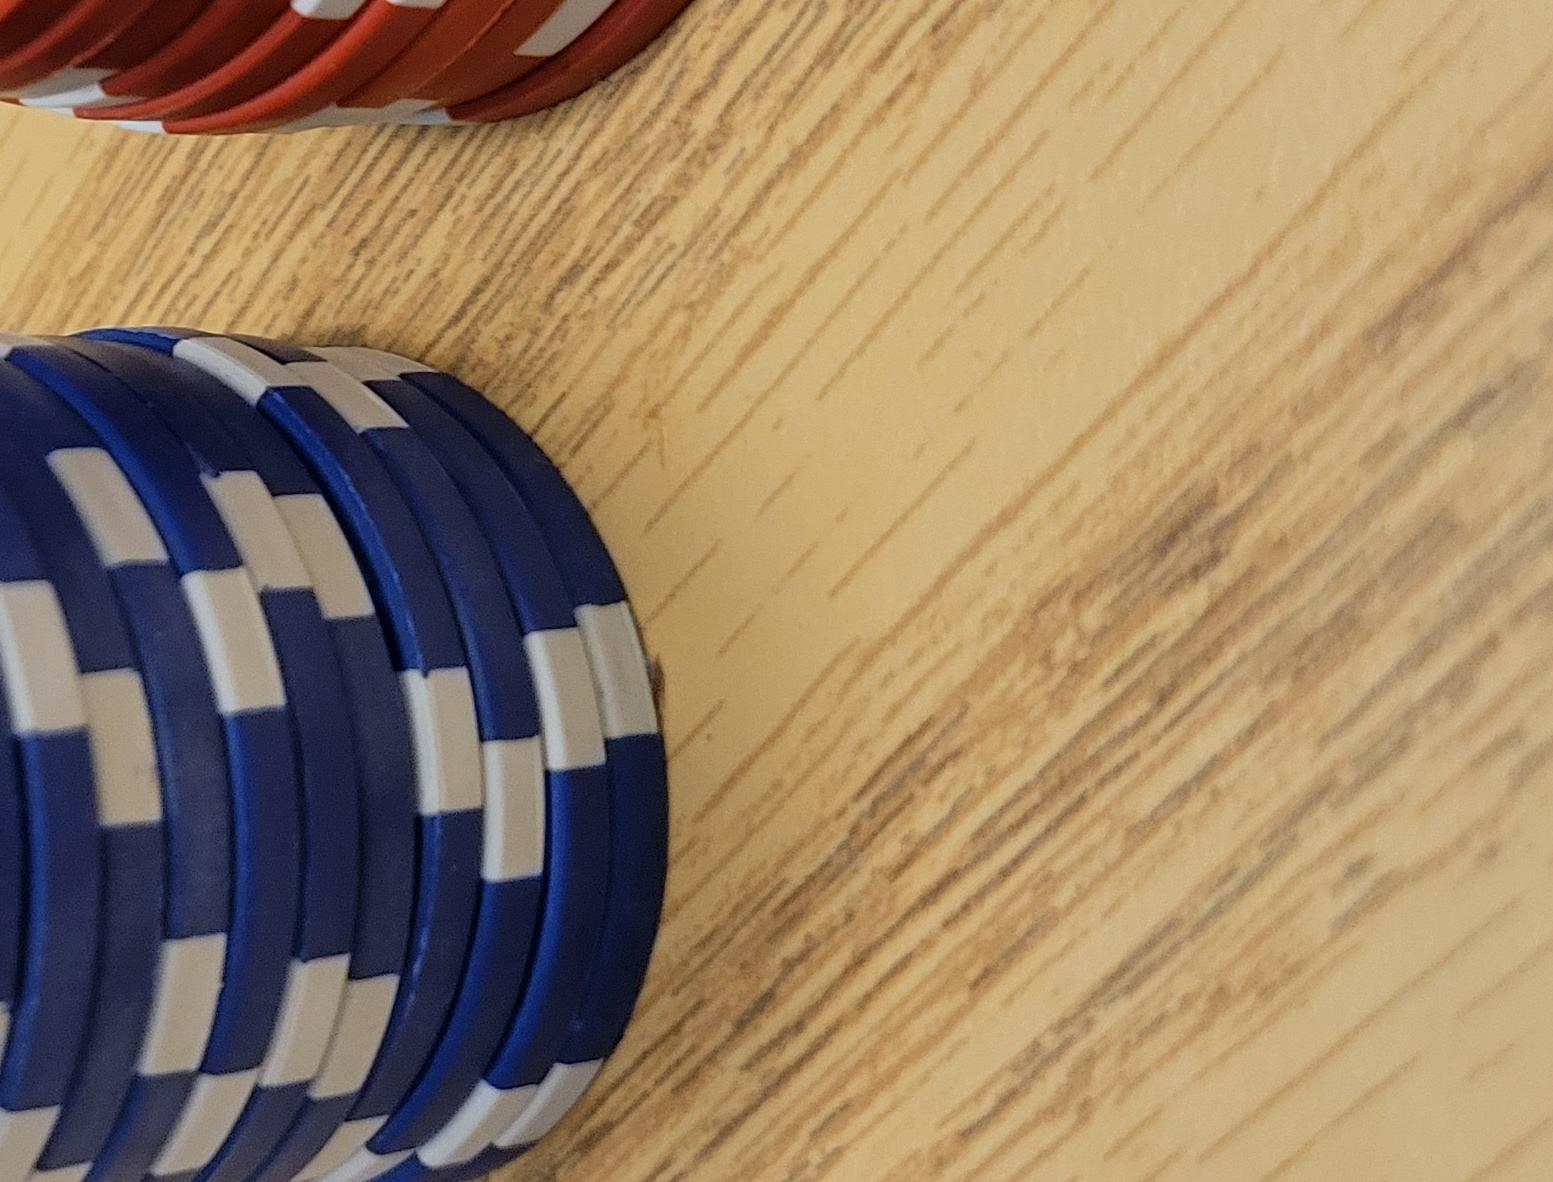Chip: (1, 401, 624, 1182)
